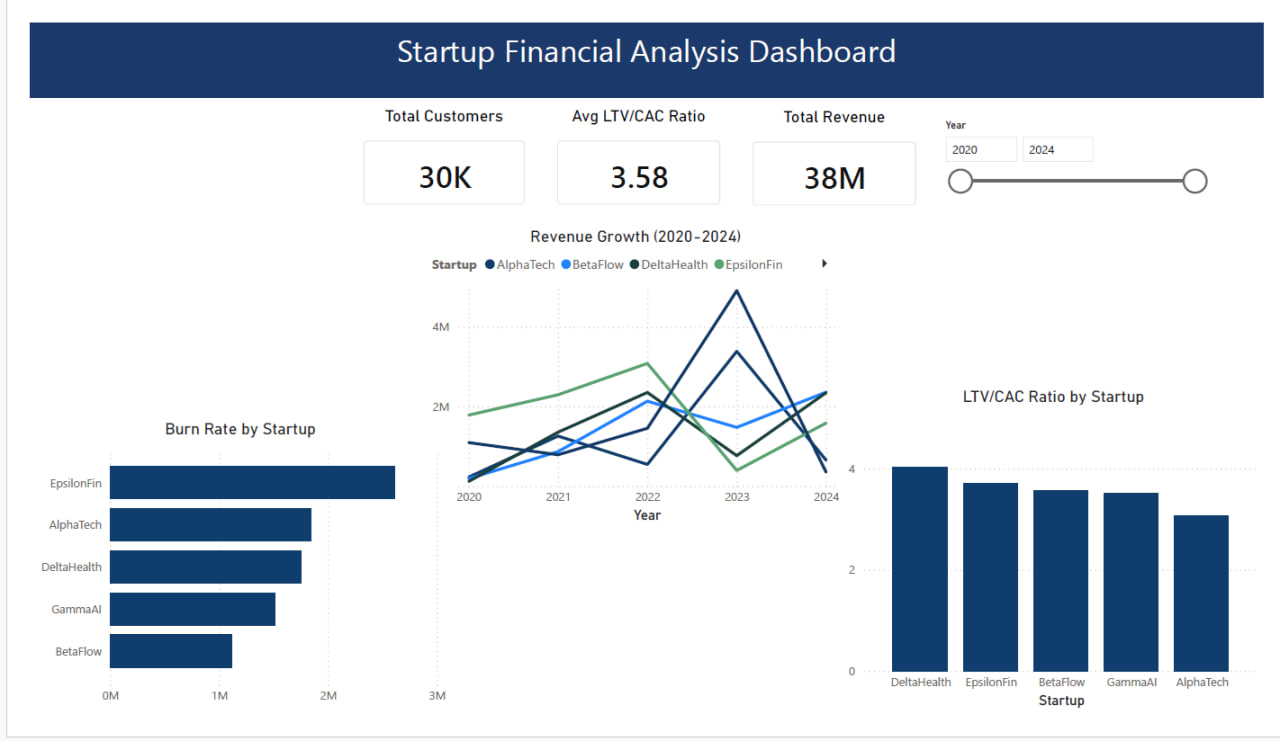

The page's visual inventory and layout, read from the dashboard file:
{"tool":"powerbi","page":{"name":"Page 1","canvas":[1280,720],"ordinal":0},"visuals":[{"type":"lineChart","title":"Revenue Growth (2020-2024)","fields":{"Category":["startup_financial_data.Year"],"Y":["Sum(startup_financial_data.Revenue)"],"Series":["startup_financial_data.Startup"]},"box":[411.7,214.1,432.2,312.9],"z":0},{"type":"barChart","title":"Burn Rate by Startup","fields":{"Category":["startup_financial_data.Startup"],"Y":["Sum(startup_financial_data.Burn_Rate)"]},"box":[0,414.4,436.4,306],"z":1000},{"type":"cardVisual","title":"Total Revenue","fields":{"Data":["Sum(startup_financial_data.Revenue)"]},"box":[733.3,90.3,203.1,119.4],"z":2000},{"type":"cardVisual","title":"Total Customers","fields":{"Data":["Sum(startup_financial_data.Customers)"]},"box":[328.5,88.9,201.7,119.4],"z":3000},{"type":"cardVisual","title":"Avg LTV/CAC Ratio","fields":{"Data":["Avg(startup_financial_data.LTV_CAC_Ratio)"]},"box":[530.2,88.9,203.1,119.4],"z":4000},{"type":"slicer","fields":{"Values":["startup_financial_data.Year"]},"box":[936.7,96.6,293.7,105.7],"z":5000},{"type":"clusteredColumnChart","title":"LTV/CAC Ratio by Startup","fields":{"Category":["startup_financial_data.Startup"],"Y":["Avg(startup_financial_data.LTV_CAC_Ratio)"]},"box":[843.9,380.1,436.4,340.3],"z":6000},{"type":"textbox","box":[0,2.7,1280.3,76.8],"z":7000}]}

Visuals, with their boxes in screenshot pixels (x1, y1, x2, y2), scaled from the page's 1280x720 canvas onto the 1280x741 screenshot:
"Revenue Growth (2020-2024)" lineChart: region(412, 220, 844, 542)
"Burn Rate by Startup" barChart: region(0, 426, 436, 740)
"Total Revenue" cardVisual: region(733, 93, 936, 216)
"Total Customers" cardVisual: region(328, 91, 530, 214)
"Avg LTV/CAC Ratio" cardVisual: region(530, 91, 733, 214)
slicer - startup_financial_data.Year: region(937, 99, 1230, 208)
"LTV/CAC Ratio by Startup" clusteredColumnChart: region(844, 391, 1279, 740)
textbox: region(0, 3, 1279, 82)
